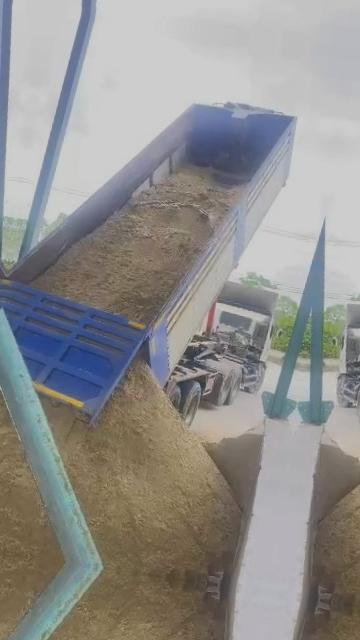sand: (45, 361, 239, 581), (32, 168, 243, 323), (0, 391, 61, 560), (206, 424, 263, 508)
